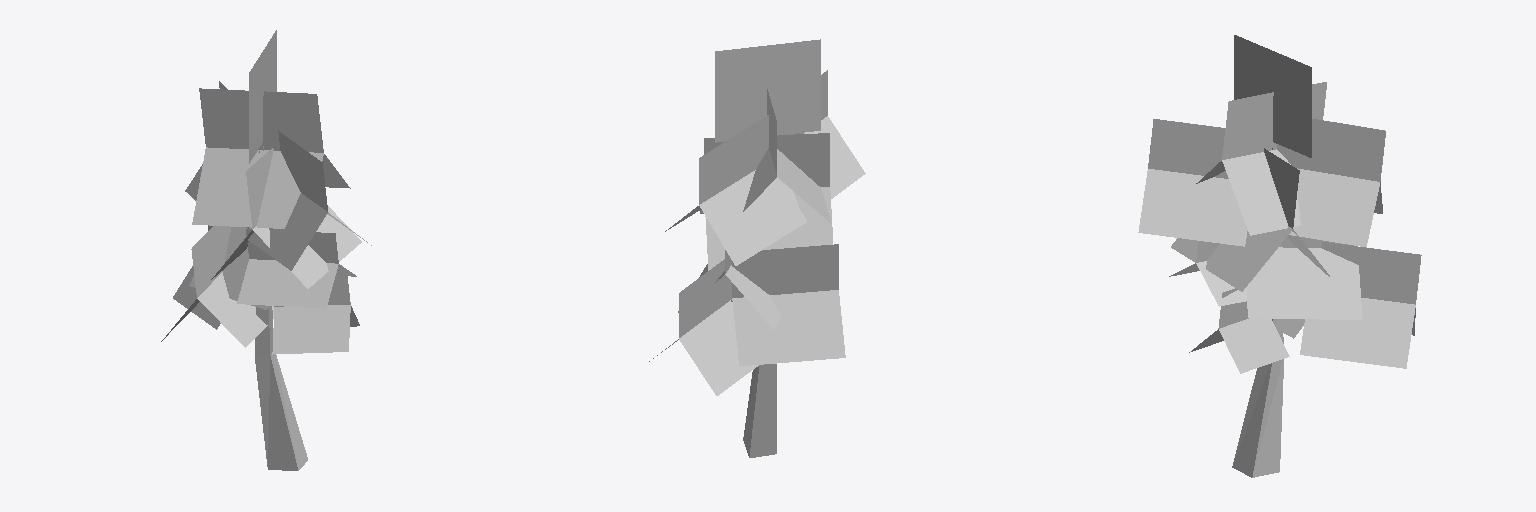
Rendered from elwynntreemid01.obj.
The picture shows the model from 3 angles: view 1: azimuth 30°, elevation 25°; view 2: azimuth 150°, elevation 25°; view 3: azimuth 270°, elevation 25°; orthographic projection.
Visible parts, largest first — view 1: ElwynnTreeMid01; view 2: ElwynnTreeMid01; view 3: ElwynnTreeMid01.
Part boxes in pixels (bbox=[...]): ElwynnTreeMid01: bbox=[161, 30, 371, 470]; ElwynnTreeMid01: bbox=[649, 39, 865, 457]; ElwynnTreeMid01: bbox=[1138, 35, 1421, 477].
Size of the model in its own units: 5.4 by 12.23 by 7.58.